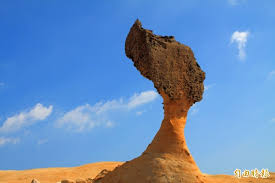yehliu: (117, 17, 216, 107)
